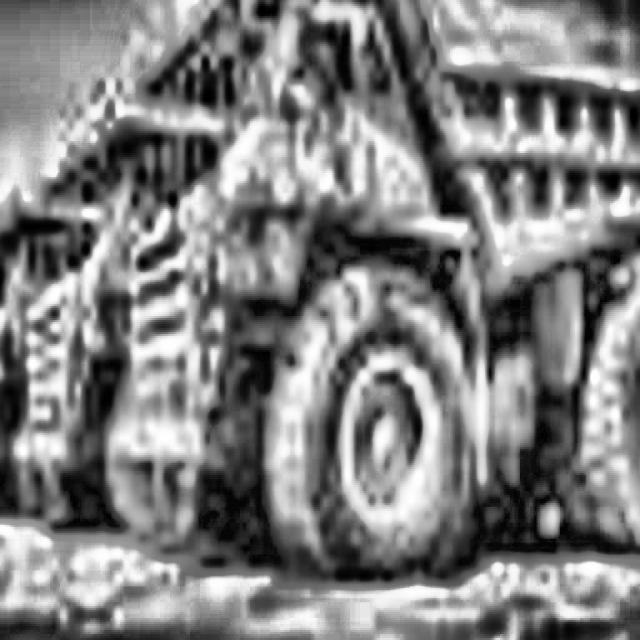dump_truck: (144, 0, 640, 572)
